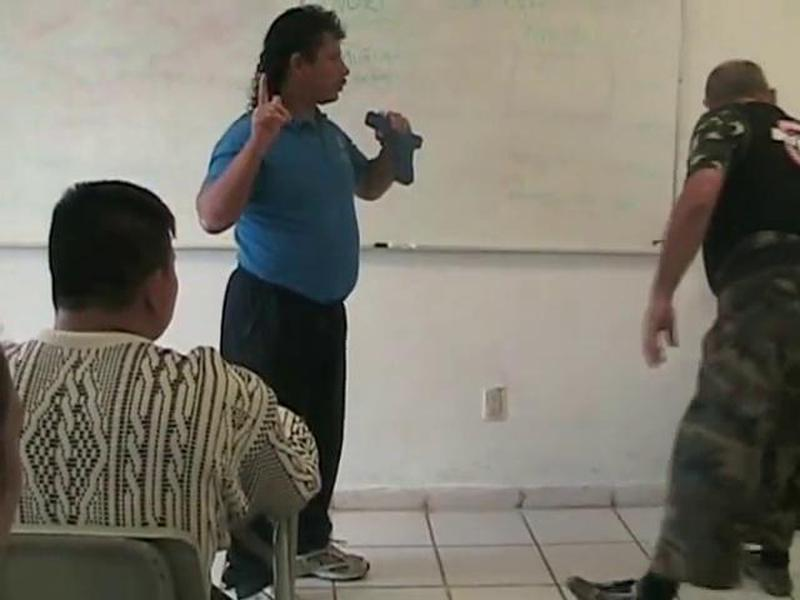Pistola: (357, 103, 431, 193)
